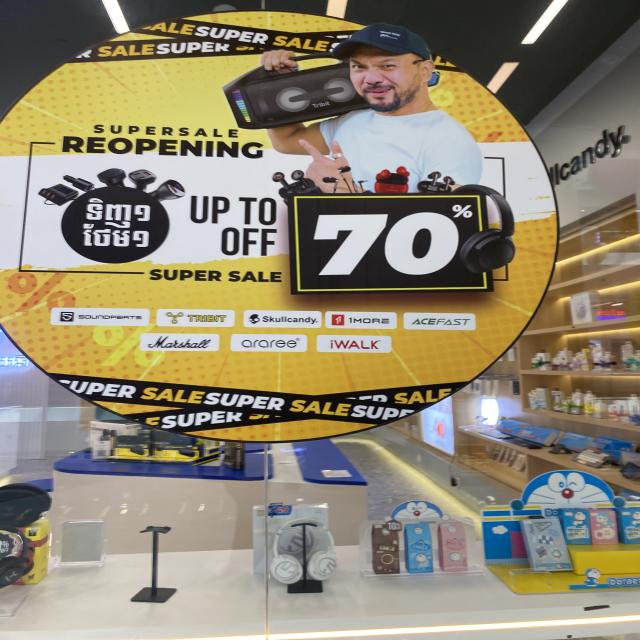826: (305, 207, 474, 283)
Yolov11_80vkh: (82, 197, 157, 232), (80, 221, 153, 248), (450, 203, 473, 219)
